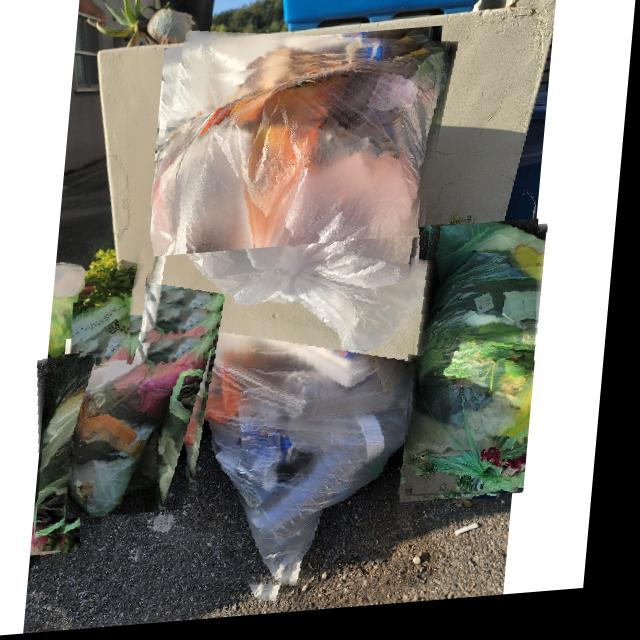general_trashbag: (411, 231, 550, 504), (56, 340, 220, 519), (46, 356, 84, 551), (76, 299, 136, 368), (56, 265, 90, 361)
other_trashbag: (151, 50, 447, 368), (151, 259, 418, 595)
